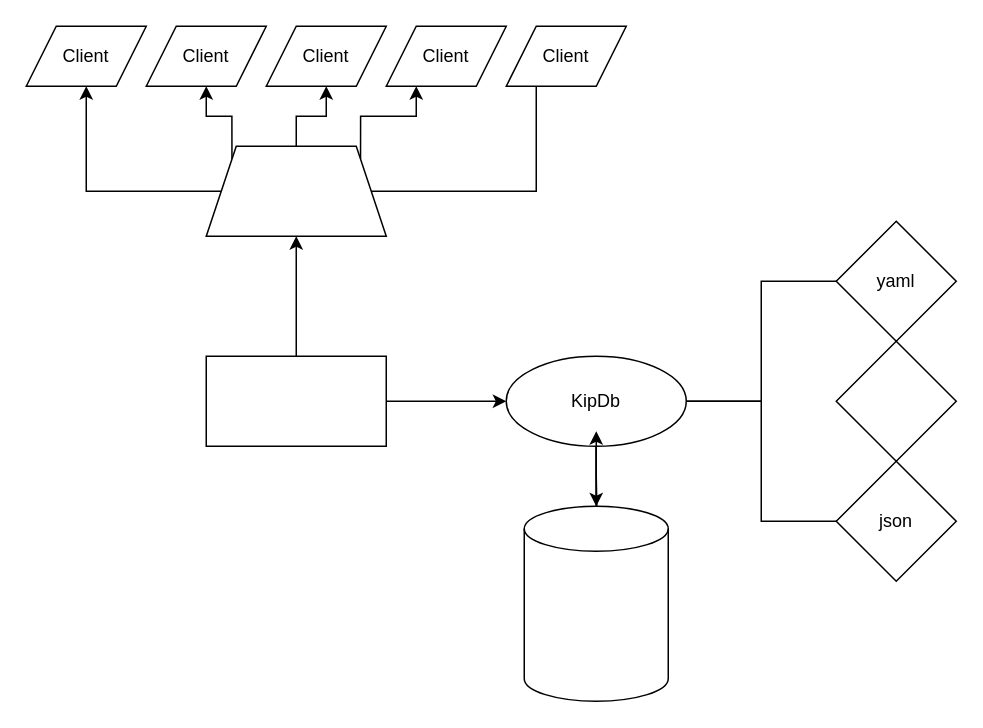
The diagram is 983 pixels wide and 728 high, and some of its shapes have lost their labels. Each missing label, with the centre of its shape:
"API" goes at [295,190].
"ini" goes at [895,400].
"kipcon_main.db" goes at [595,603].
"Manager" goes at [295,400].
